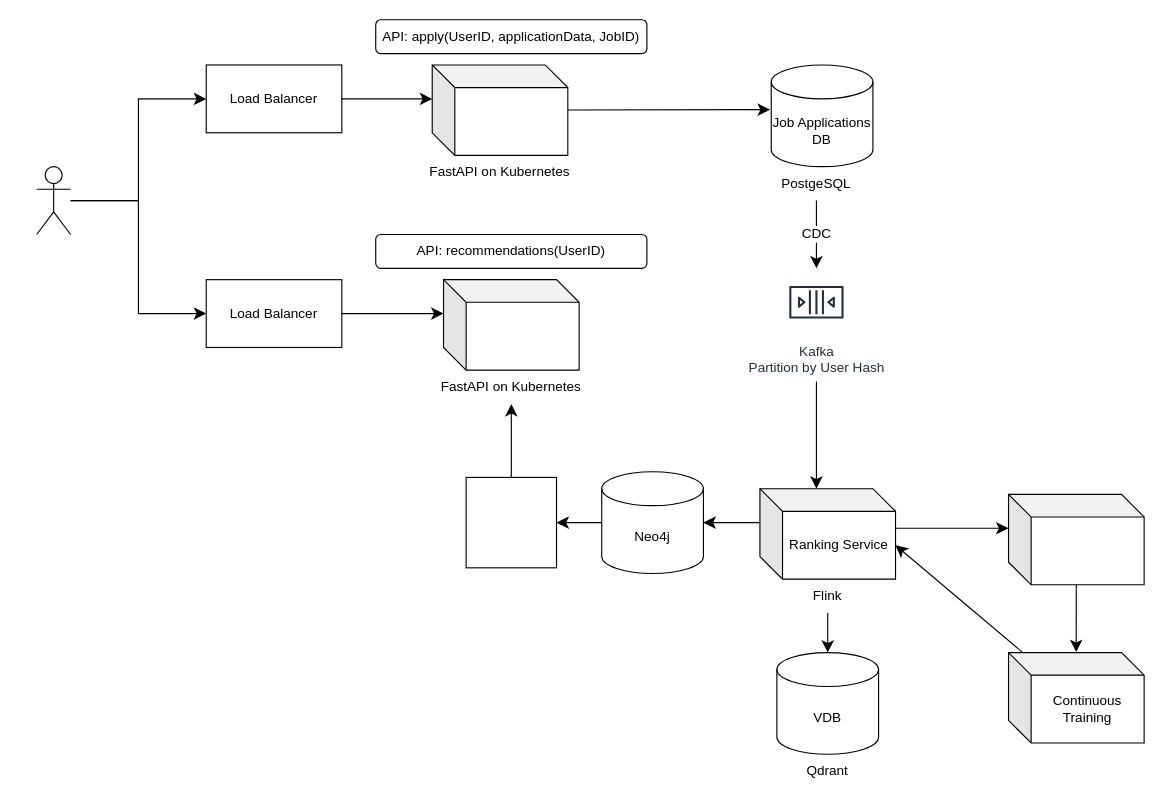
Some shapes in this 1164 by 808 pixel diagram are drawn without their labels. The box of each missing label's shape, as (x1, y1, x2, y2) in pixels:
Best Math Jobs (Redis): (465, 476, 557, 568)
Continuous Monitoring: (1007, 493, 1144, 585)
Job Application Service: (431, 64, 568, 155)
Recommendation Service: (442, 279, 579, 370)
User Job Seeker: (36, 166, 71, 234)
